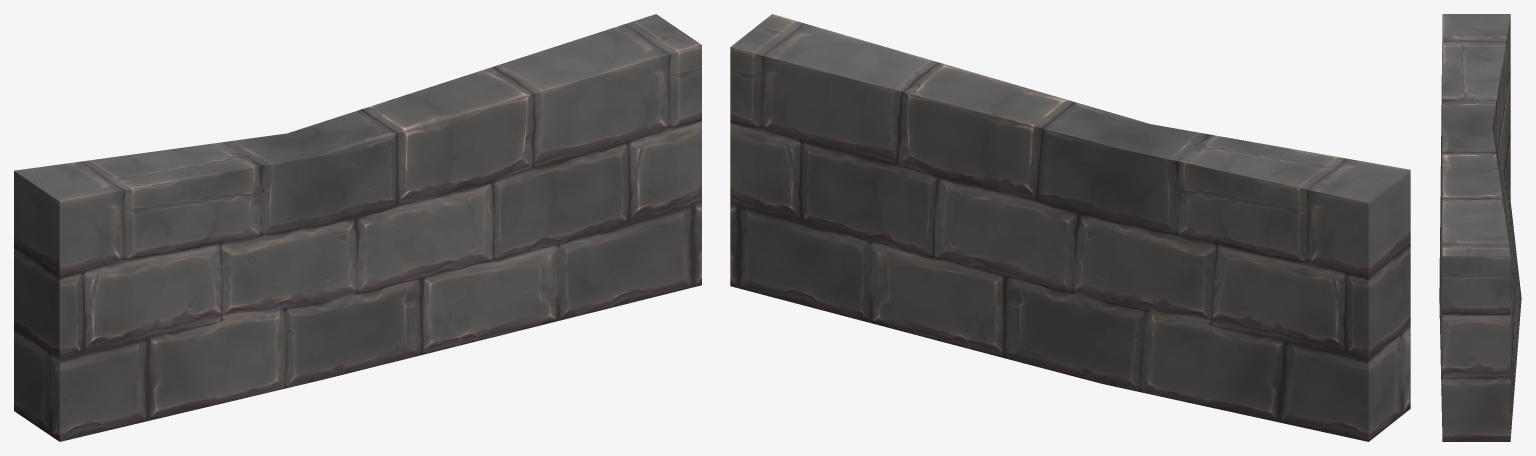
The model's file is ARC0110021.fbx.
3 views of the same model, side by side, from view 1: azimuth 30°, elevation 25°; view 2: azimuth 150°, elevation 25°; view 3: azimuth 270°, elevation 25° (orthographic). The views are drawn at different scales.
Parts seen in each view (by area): view 1: smARC0110021; view 2: smARC0110021; view 3: smARC0110021.
Boxes of the visible parts, x1=… form: smARC0110021: x1=14, y1=14, x2=701, y2=441; smARC0110021: x1=730, y1=14, x2=1410, y2=441; smARC0110021: x1=1439, y1=14, x2=1521, y2=441.
Bounding box in the file's own units: 144 × 51.69 × 20.66.
Materials: 1 (1 with a texture image).
